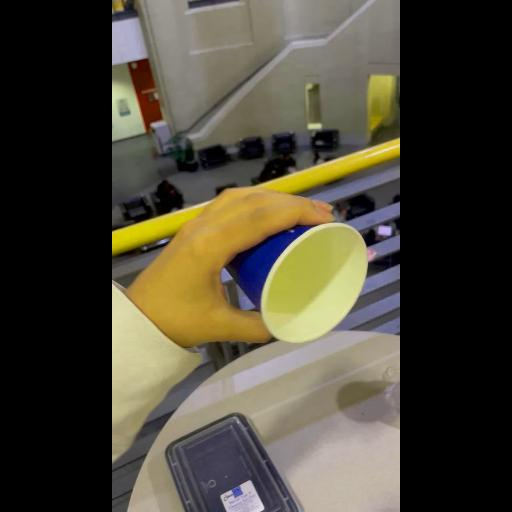lp_paper_cup: (202, 180, 368, 354)
